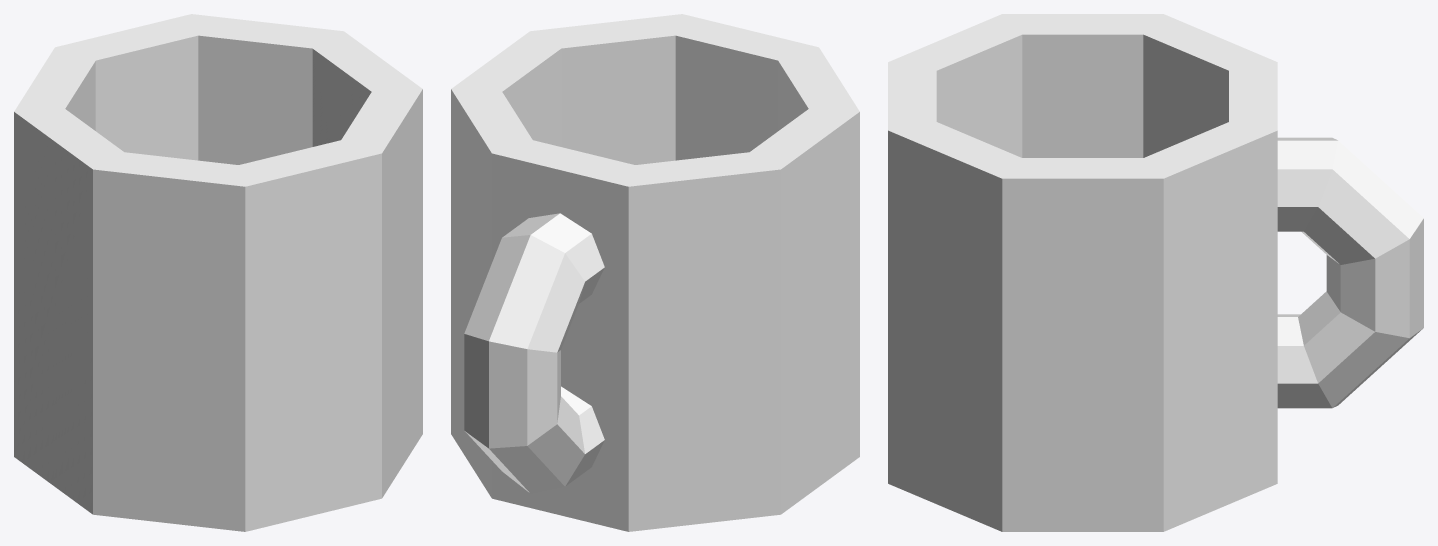
Rendered from mug.gltf.
The picture shows the model from 3 angles, left to right: view 1: azimuth 30°, elevation 25°; view 2: azimuth 150°, elevation 25°; view 3: azimuth 270°, elevation 25°; orthographic projection. The views are drawn at different scales.
Visible parts, largest first — view 1: mesh; view 2: mesh (×2); view 3: mesh (×2).
Boxes of the visible parts, bbox=[...] form: mesh: bbox=[14, 14, 422, 531]; mesh (×2): bbox=[451, 14, 859, 531]; mesh (×2): bbox=[888, 14, 1423, 531].
Bounding box in the file's own units: 0.25 × 0.25 × 0.3438.
1 material, 1 textured.
